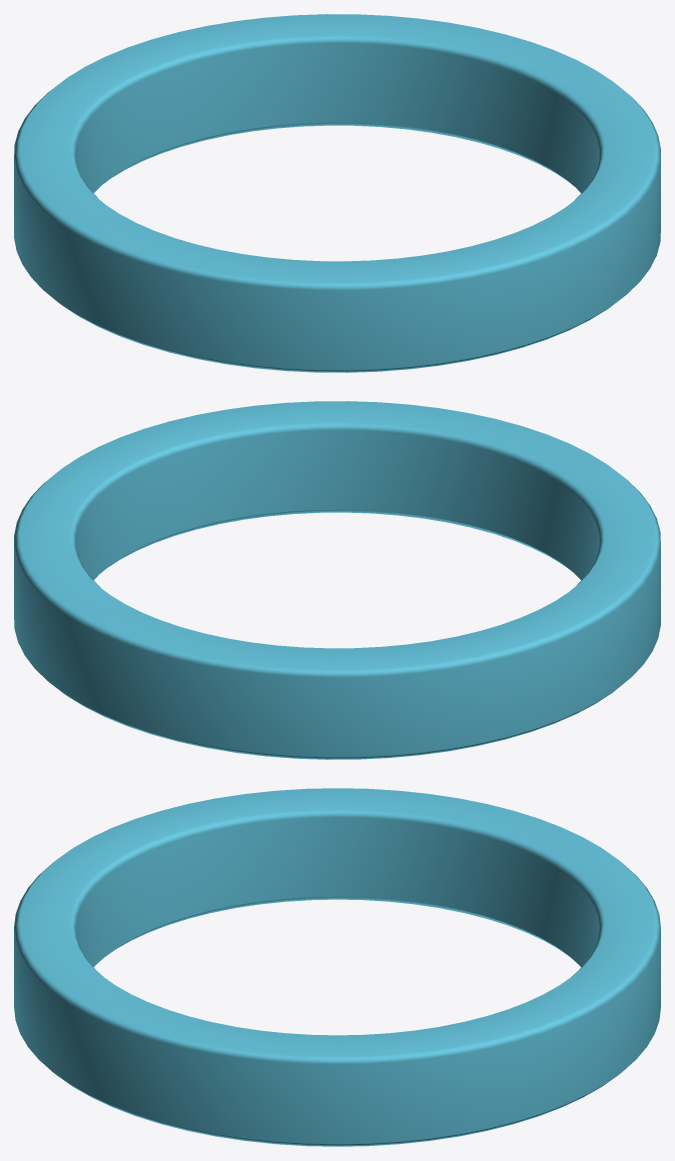
The picture shows the model from 3 angles, top to bottom: view 1: azimuth 30°, elevation 25°; view 2: azimuth 150°, elevation 25°; view 3: azimuth 270°, elevation 25°; orthographic projection.
Parts seen in each view (by area): view 1: seal_body; view 2: seal_body; view 3: seal_body.
Part boxes in pixels (box(x1,y1,x2,y2)): seal_body: box(14, 14, 660, 372); seal_body: box(14, 401, 660, 759); seal_body: box(14, 788, 660, 1146).
Bounding box in the file's own units: 0.0825 × 0.0127 × 0.0825.
